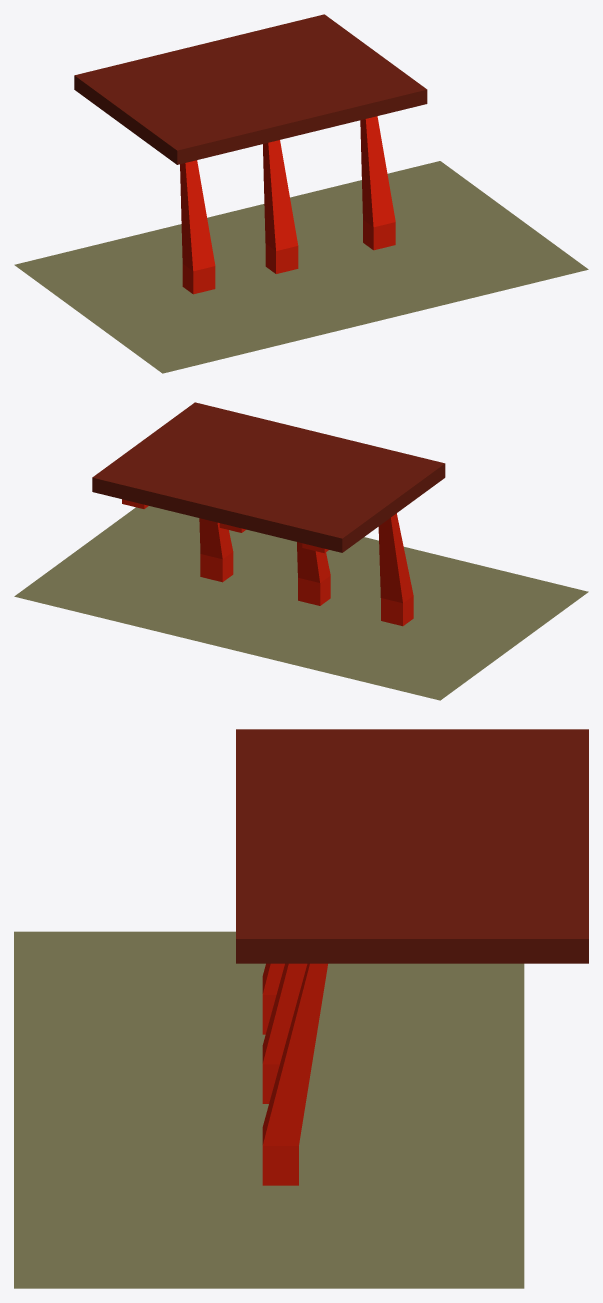
File: busStation.fbx
3 renders of one model, top to bottom at view 1: azimuth 30°, elevation 25°; view 2: azimuth 150°, elevation 25°; view 3: azimuth 270°, elevation 25°, orthographic. The views are drawn at different scales.
Visible parts, largest first — view 1: Prostokąt, Kostka, Cube.002, Cube.001, Cube; view 2: Prostokąt, Kostka, Cube.002, Cube, Cube.001; view 3: Prostokąt, Kostka, Cube, Cube.001, Cube.002.
Boxes of the visible parts, bbox=[...] form: Prostokąt: bbox=[14, 161, 588, 373]; Kostka: bbox=[74, 14, 427, 164]; Cube.002: bbox=[180, 160, 215, 294]; Cube.001: bbox=[263, 140, 298, 273]; Cube: bbox=[360, 116, 395, 250]; Prostokąt: bbox=[14, 506, 588, 700]; Kostka: bbox=[92, 402, 445, 552]; Cube.002: bbox=[302, 513, 413, 626]; Cube: bbox=[122, 499, 233, 582]; Cube.001: bbox=[219, 523, 330, 605]; Prostokąt: bbox=[14, 931, 524, 1288]; Kostka: bbox=[236, 729, 588, 963]; Cube: bbox=[262, 963, 327, 1185]; Cube.001: bbox=[262, 963, 307, 1103]; Cube.002: bbox=[262, 963, 284, 1034].
Bounding box in the file's own units: 3838 × 1346 × 2610.
